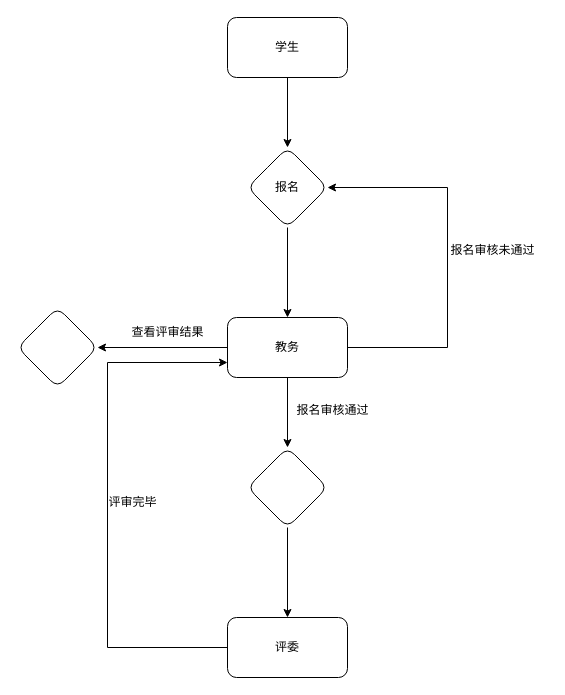
The diagram is 565 pixels wide and 695 high, and some of its shapes have lost their labels. Here are the shapes that lost their labels. From the top down, the box of each, then its label:
(16, 306, 98, 388): 发布获奖信息
(246, 446, 328, 528): 提交作品
